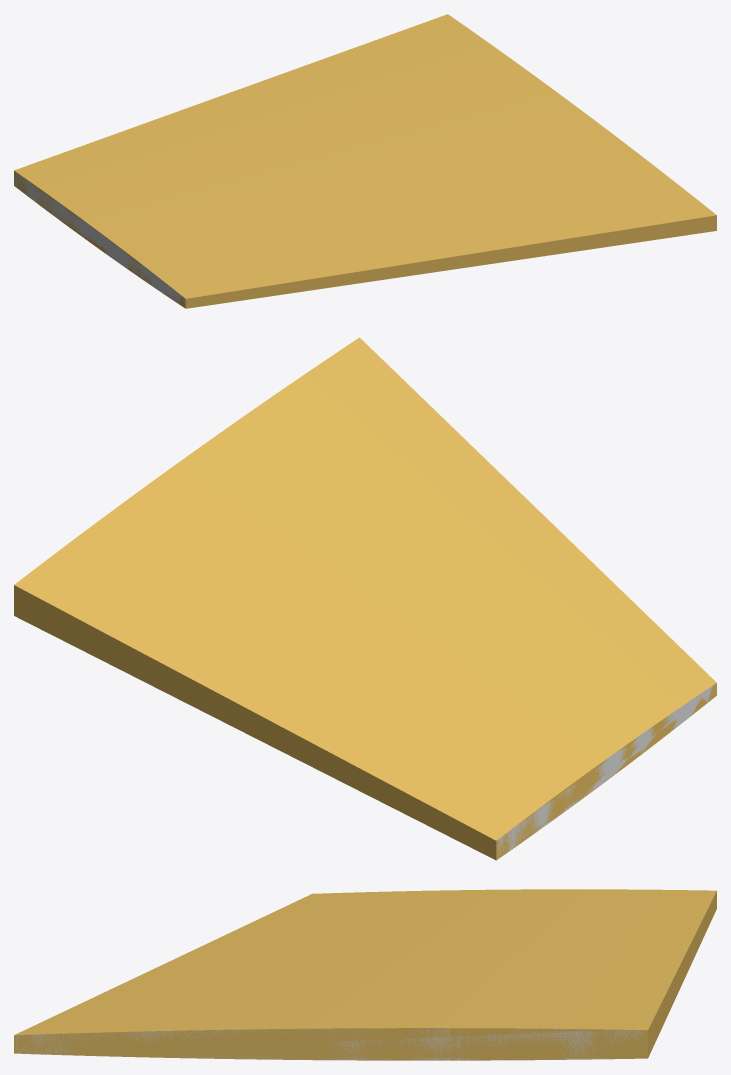
The model's file is fuel_wing_R.fbx.
3 views of the same model, one above another, from view 1: azimuth 30°, elevation 25°; view 2: azimuth 150°, elevation 25°; view 3: azimuth 270°, elevation 25° (orthographic). The views are drawn at different scales.
Parts seen in each view (by area): view 1: fuel_wing_R, fuel_wing_R_colmesh0; view 2: fuel_wing_R, fuel_wing_R_colmesh0; view 3: fuel_wing_R, fuel_wing_R_colmesh0.
Boxes of the visible parts, box(x1,y1,x2,y2) form: fuel_wing_R: box(14, 14, 716, 308); fuel_wing_R_colmesh0: box(14, 172, 185, 305); fuel_wing_R: box(14, 337, 716, 860); fuel_wing_R_colmesh0: box(496, 686, 713, 859); fuel_wing_R: box(14, 889, 716, 1060); fuel_wing_R_colmesh0: box(14, 1028, 646, 1060).
Size of what is drawn, in the model's own units: 1.1 by 0.2527 by 1.4.
